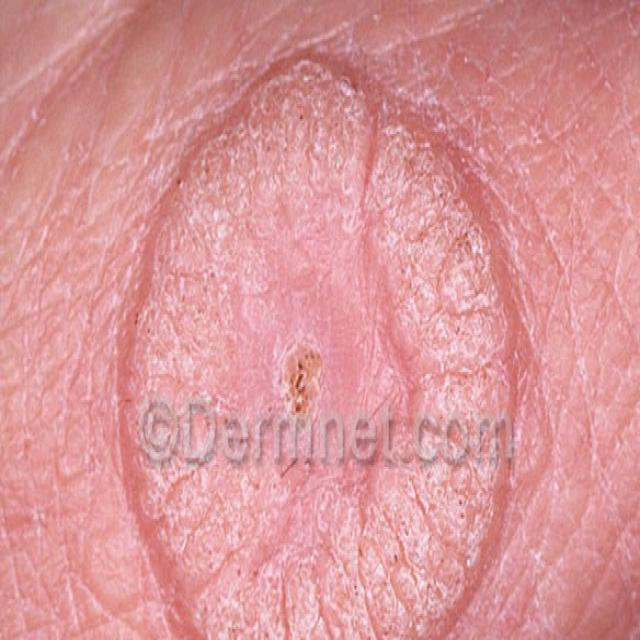Warts: (105, 46, 542, 640)
